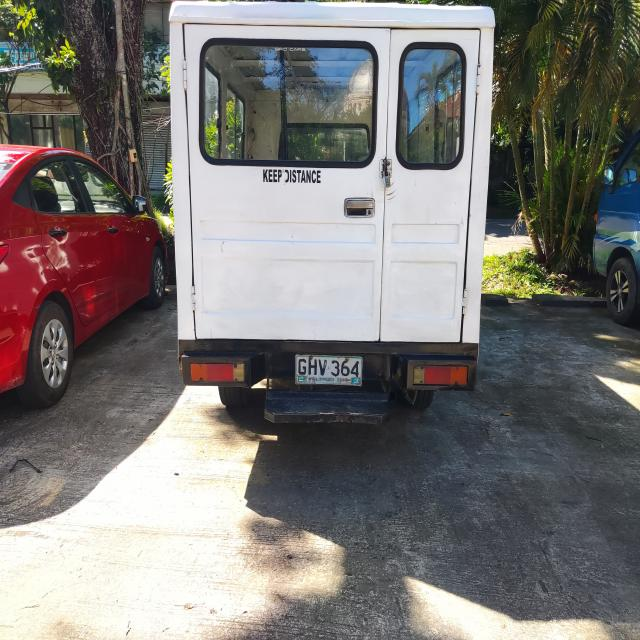plate: (294, 353, 364, 388)
